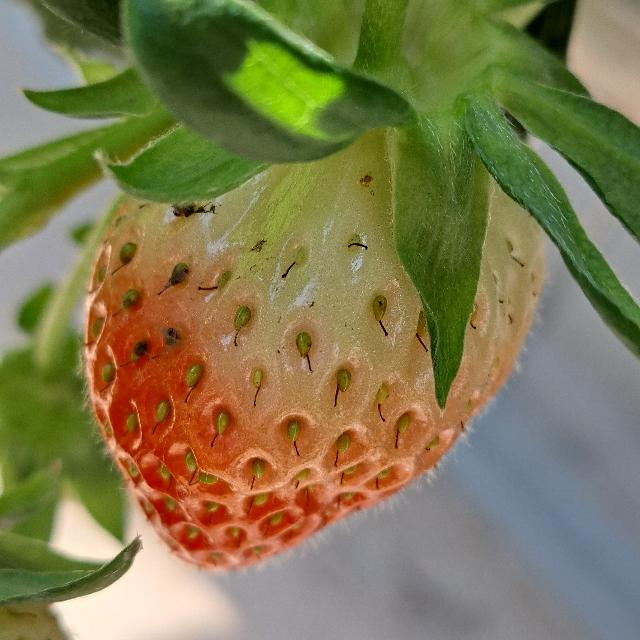Health_75: (86, 128, 546, 572)
